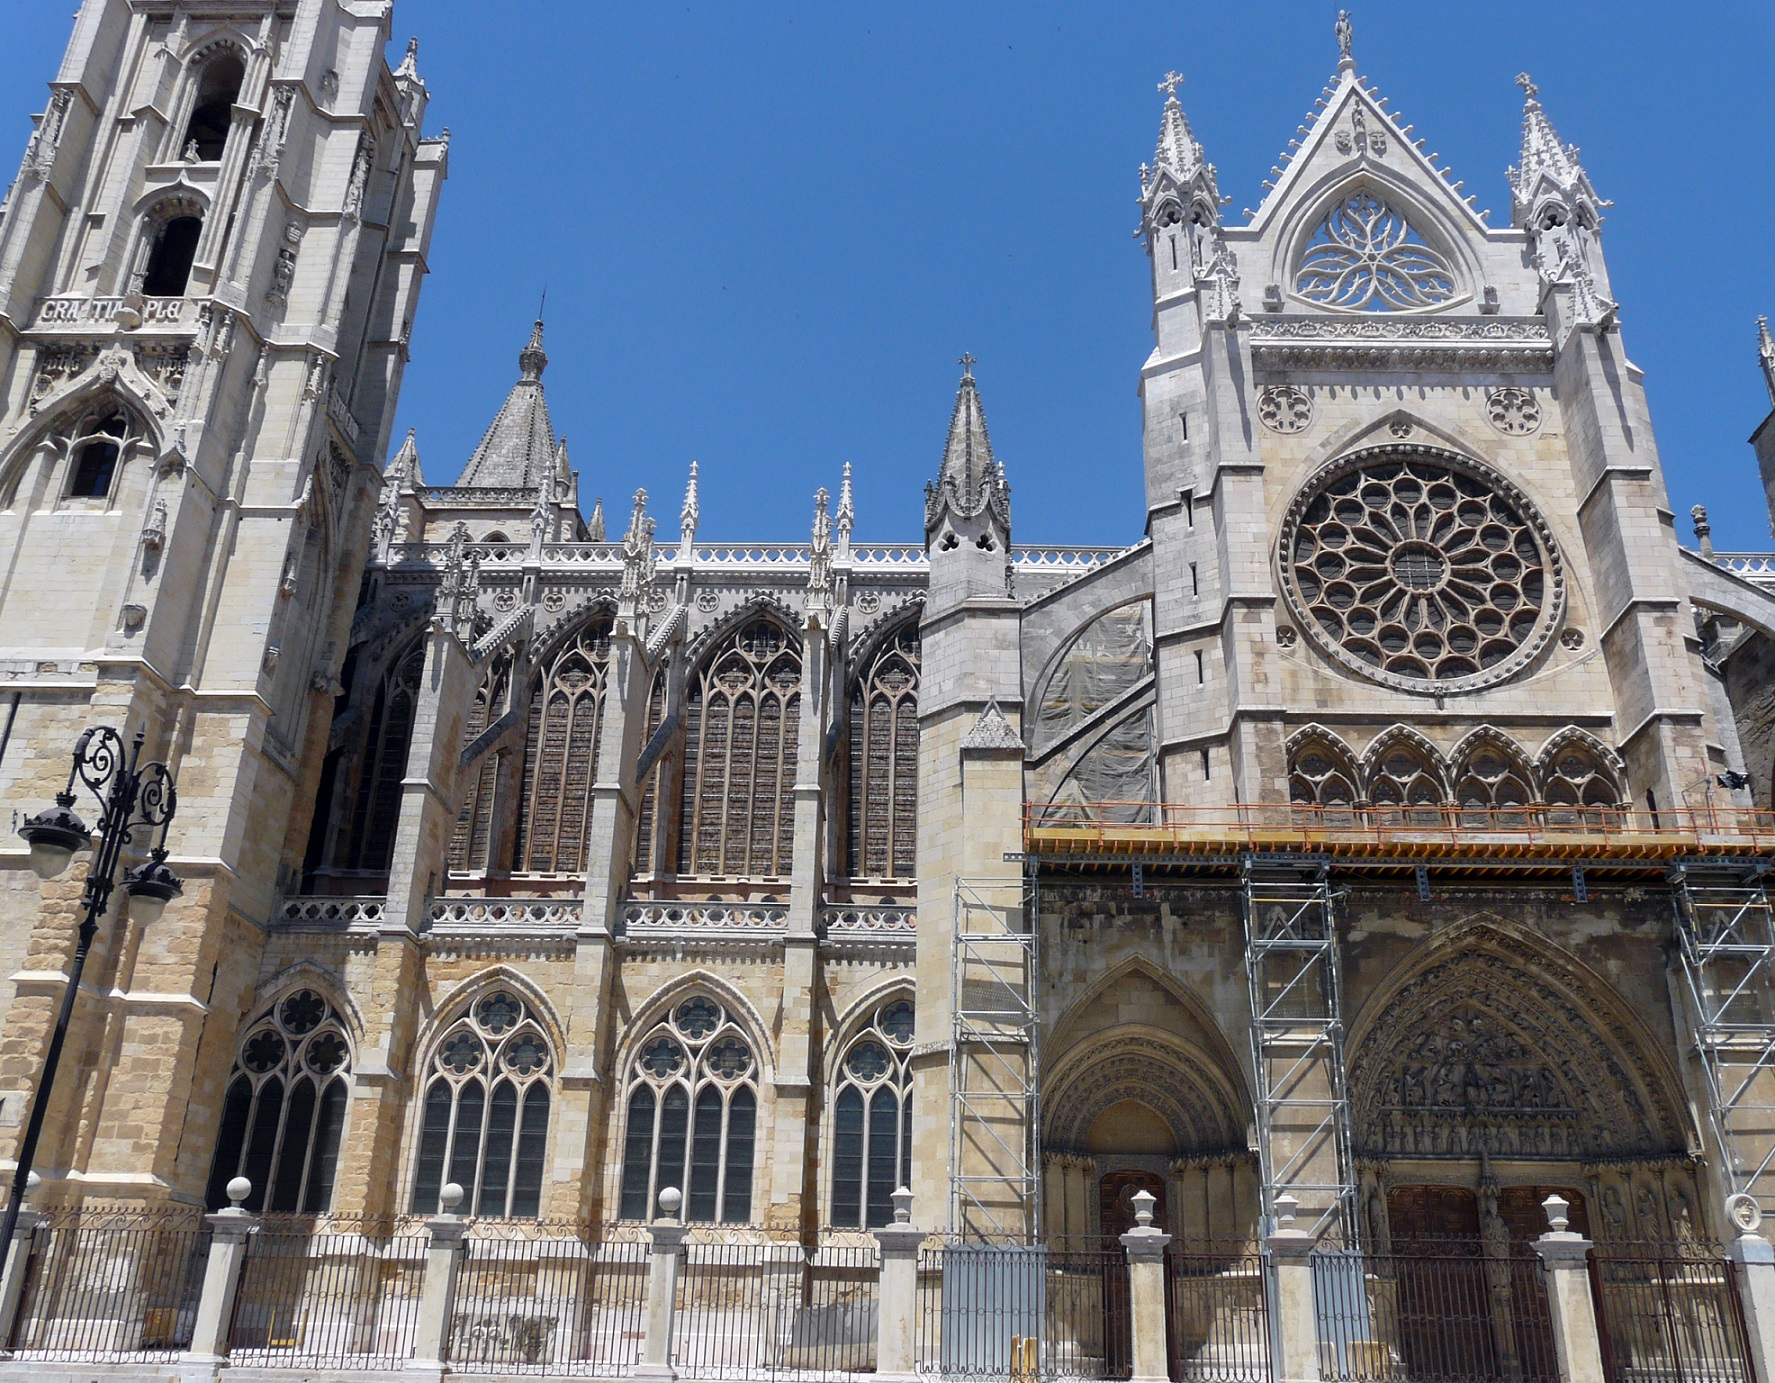arco-apuntado: (1340, 905, 1702, 1157), (1032, 951, 1261, 1152), (614, 967, 774, 1088), (413, 957, 562, 1078), (1, 367, 161, 473), (241, 955, 362, 1080), (1448, 720, 1539, 802), (1536, 723, 1632, 800), (1359, 720, 1451, 800), (1284, 719, 1362, 801)
arco-conopial: (135, 170, 210, 205)
pinaculo-gotico: (1497, 63, 1601, 213), (1135, 61, 1220, 207), (795, 455, 857, 611), (620, 473, 661, 595), (434, 516, 477, 609), (526, 457, 560, 537), (674, 451, 707, 530)
